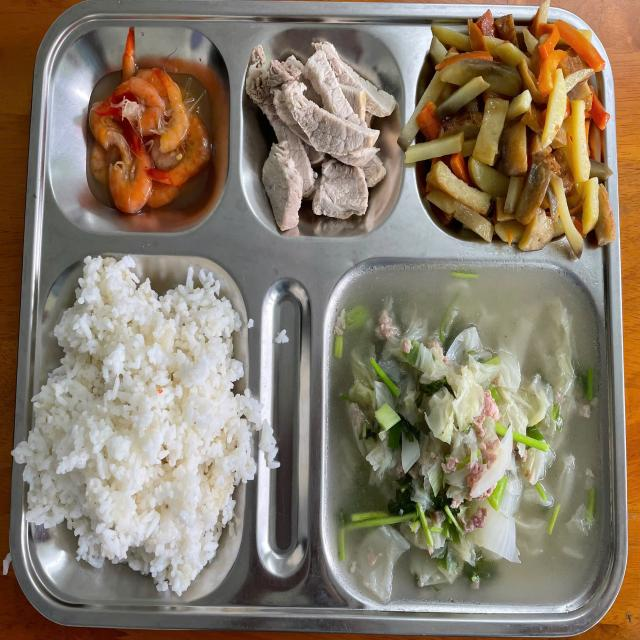caixao: (418, 28, 608, 245)
canhcaitrang: (333, 274, 611, 609)
salad: (34, 270, 240, 590)
thitcathom: (83, 57, 211, 220)
thitram: (252, 49, 391, 222)
